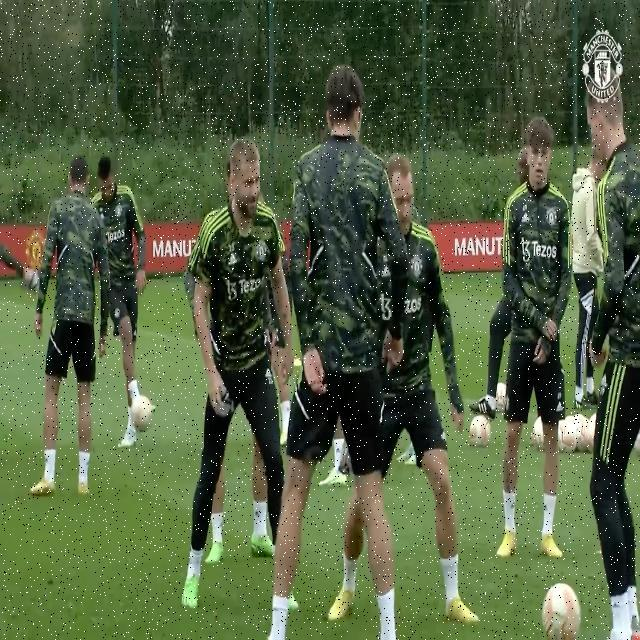Adidas: (228, 252, 237, 270), (382, 261, 391, 279), (522, 211, 531, 227), (556, 398, 564, 416)
